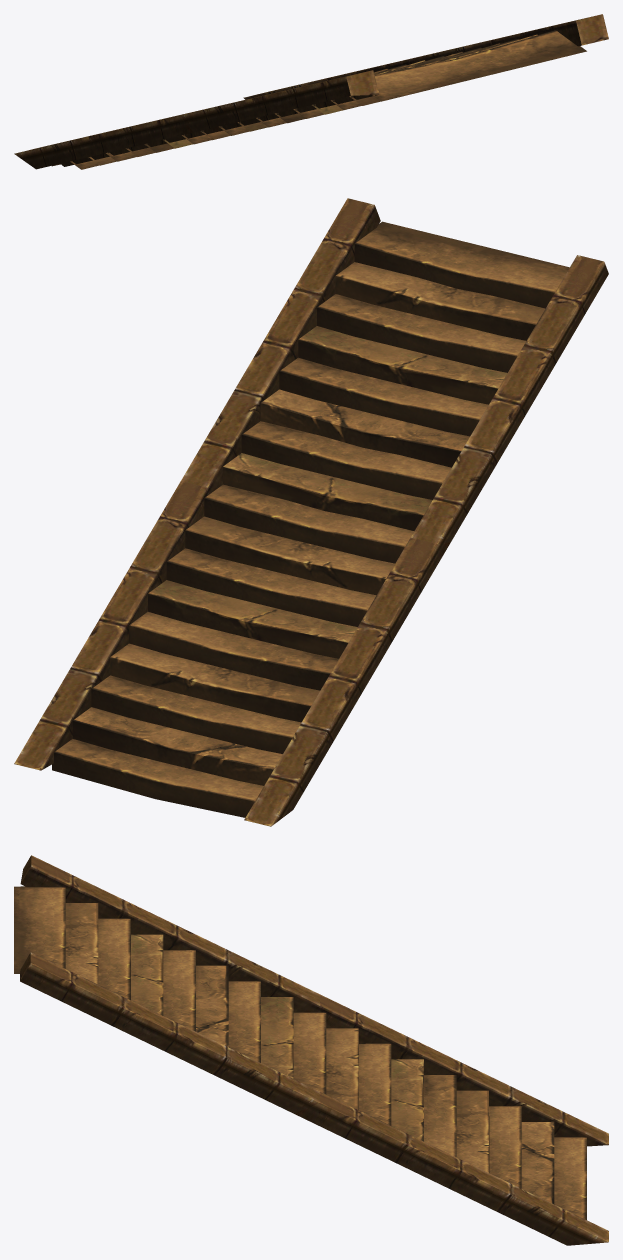
Rendered from Scene_louti_001.FBX.
The picture shows the model from 3 angles, top to bottom: view 1: azimuth 30°, elevation 25°; view 2: azimuth 150°, elevation 25°; view 3: azimuth 270°, elevation 25°; orthographic projection. The views are drawn at different scales.
Visible parts, largest first — view 1: Scene_louti_001; view 2: Scene_louti_001; view 3: Scene_louti_001.
Part boxes in pixels (bbox=[...]): Scene_louti_001: bbox=[14, 14, 608, 169]; Scene_louti_001: bbox=[14, 198, 608, 826]; Scene_louti_001: bbox=[14, 855, 608, 1245].
Size of the model in its own units: 6.96 by 8.65 by 16.08.
